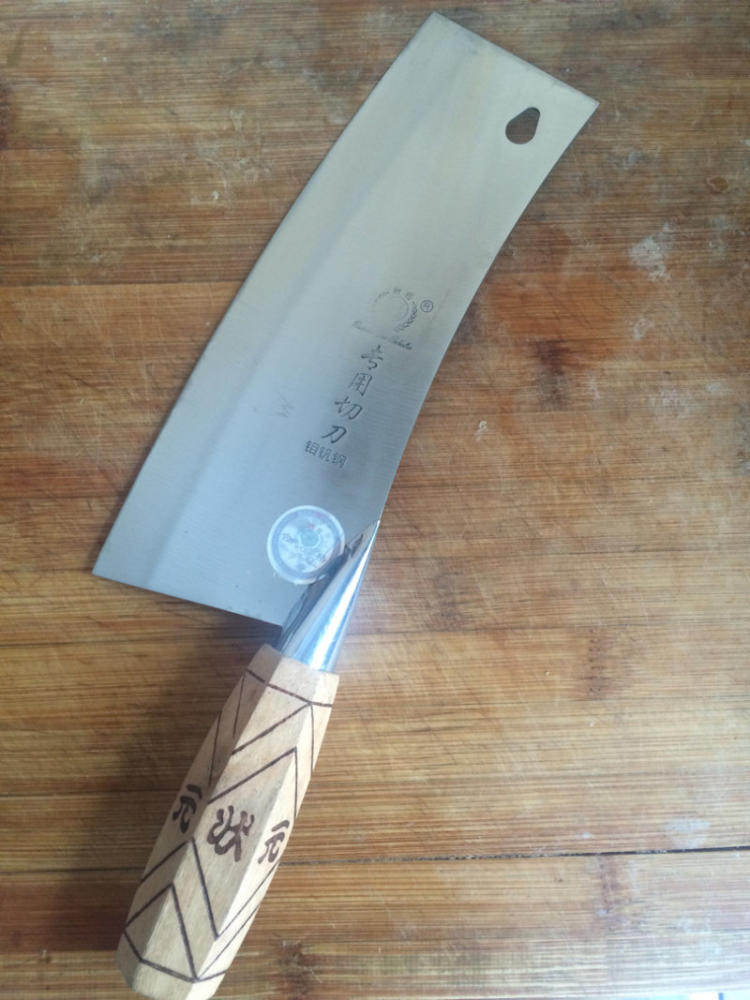knief: (76, 25, 546, 965)
